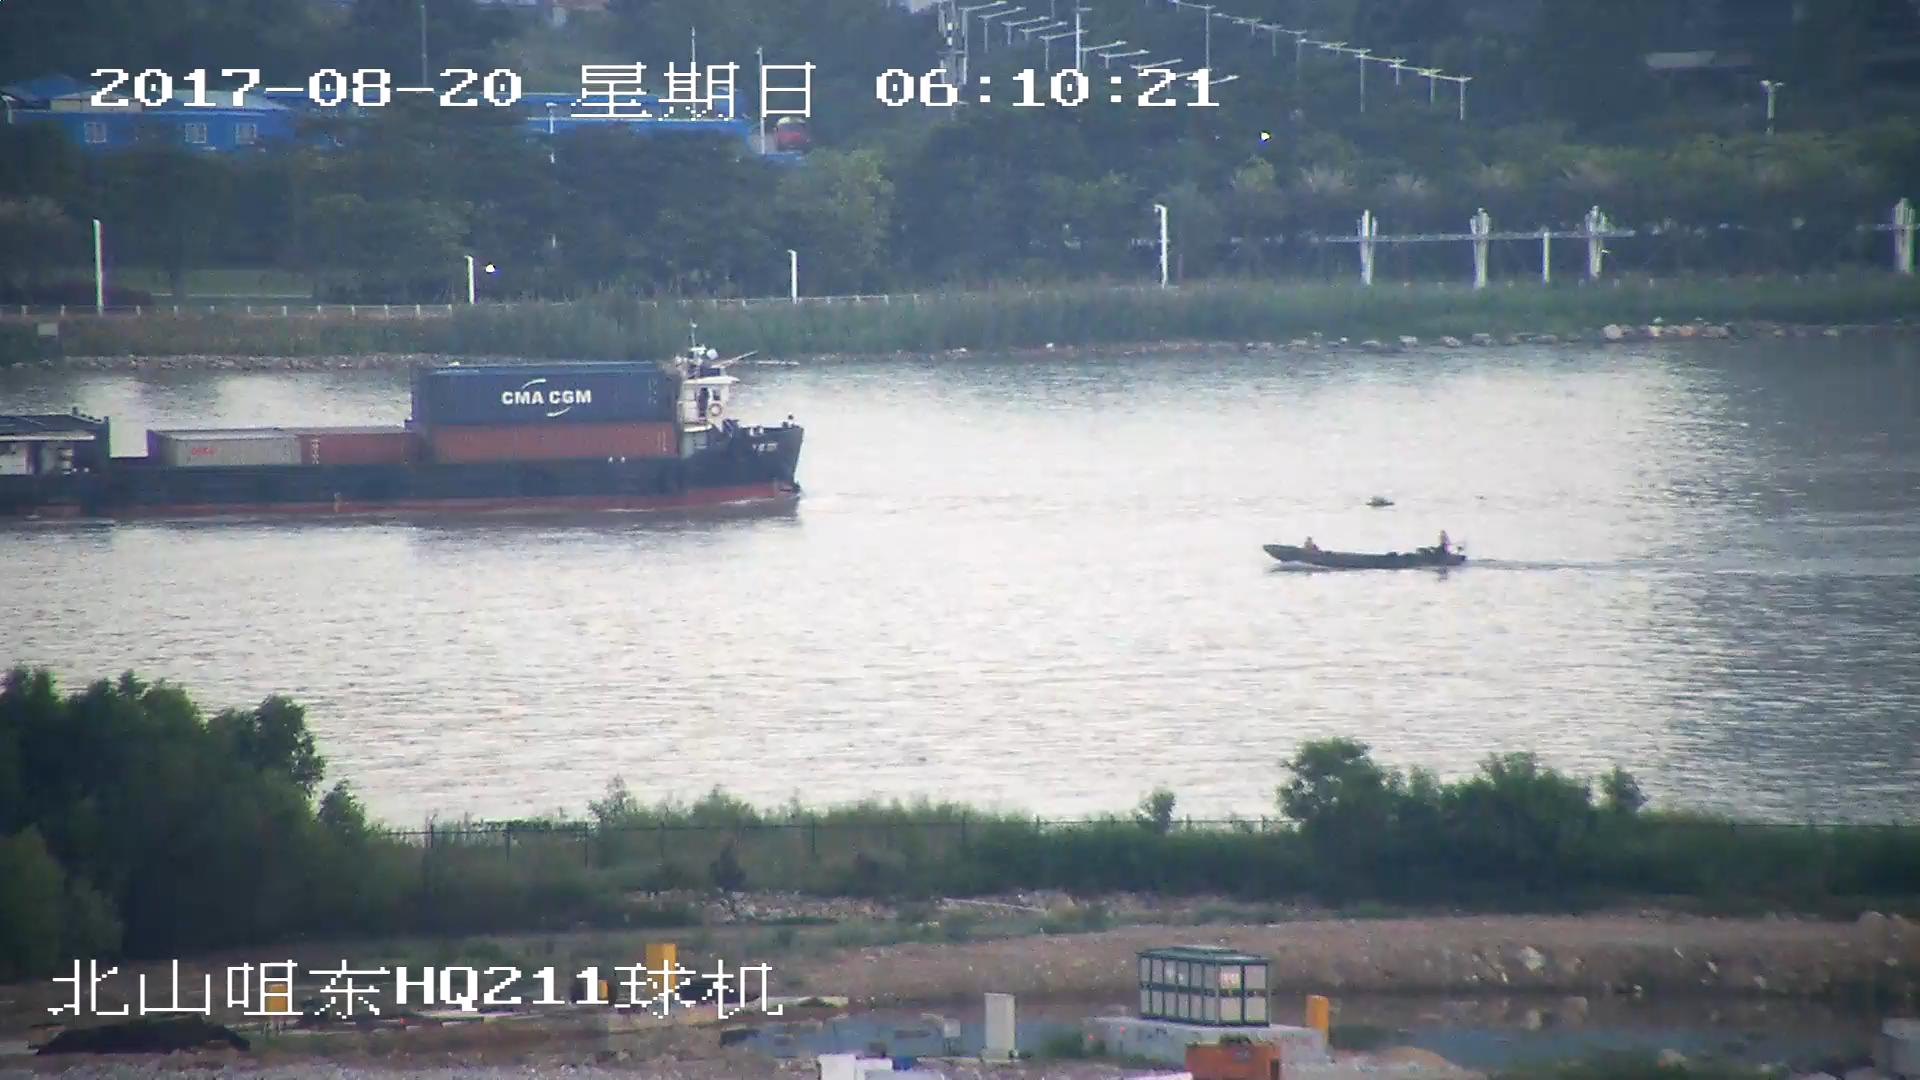container ship: (1, 345, 803, 506)
fishing boat: (1261, 534, 1461, 576)
